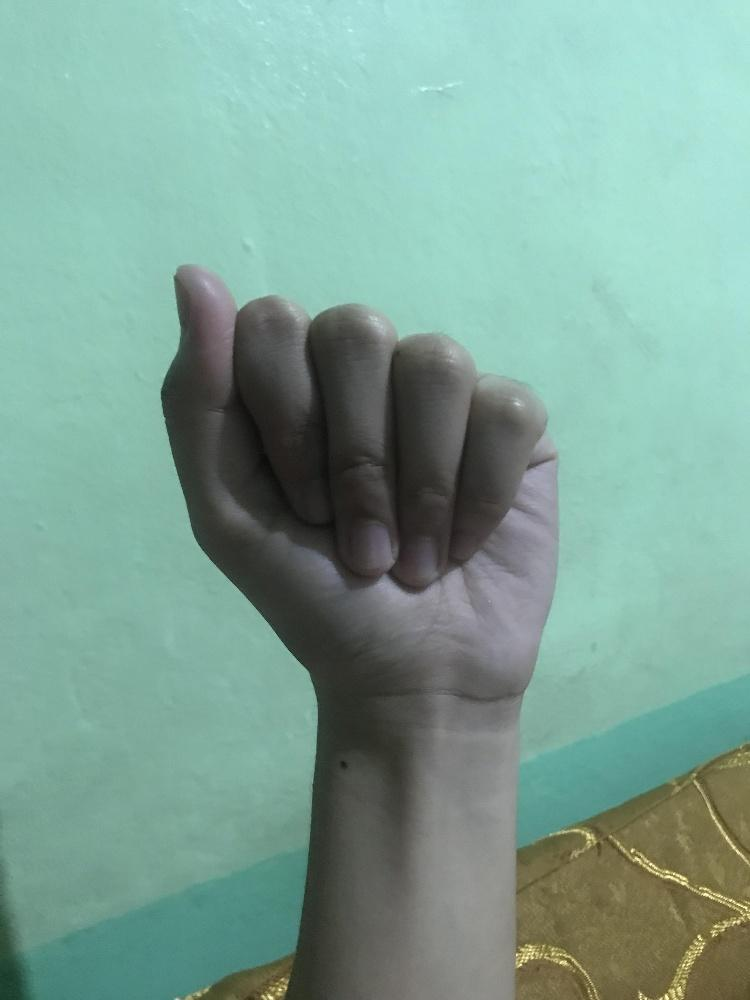a: (156, 259, 561, 714)
